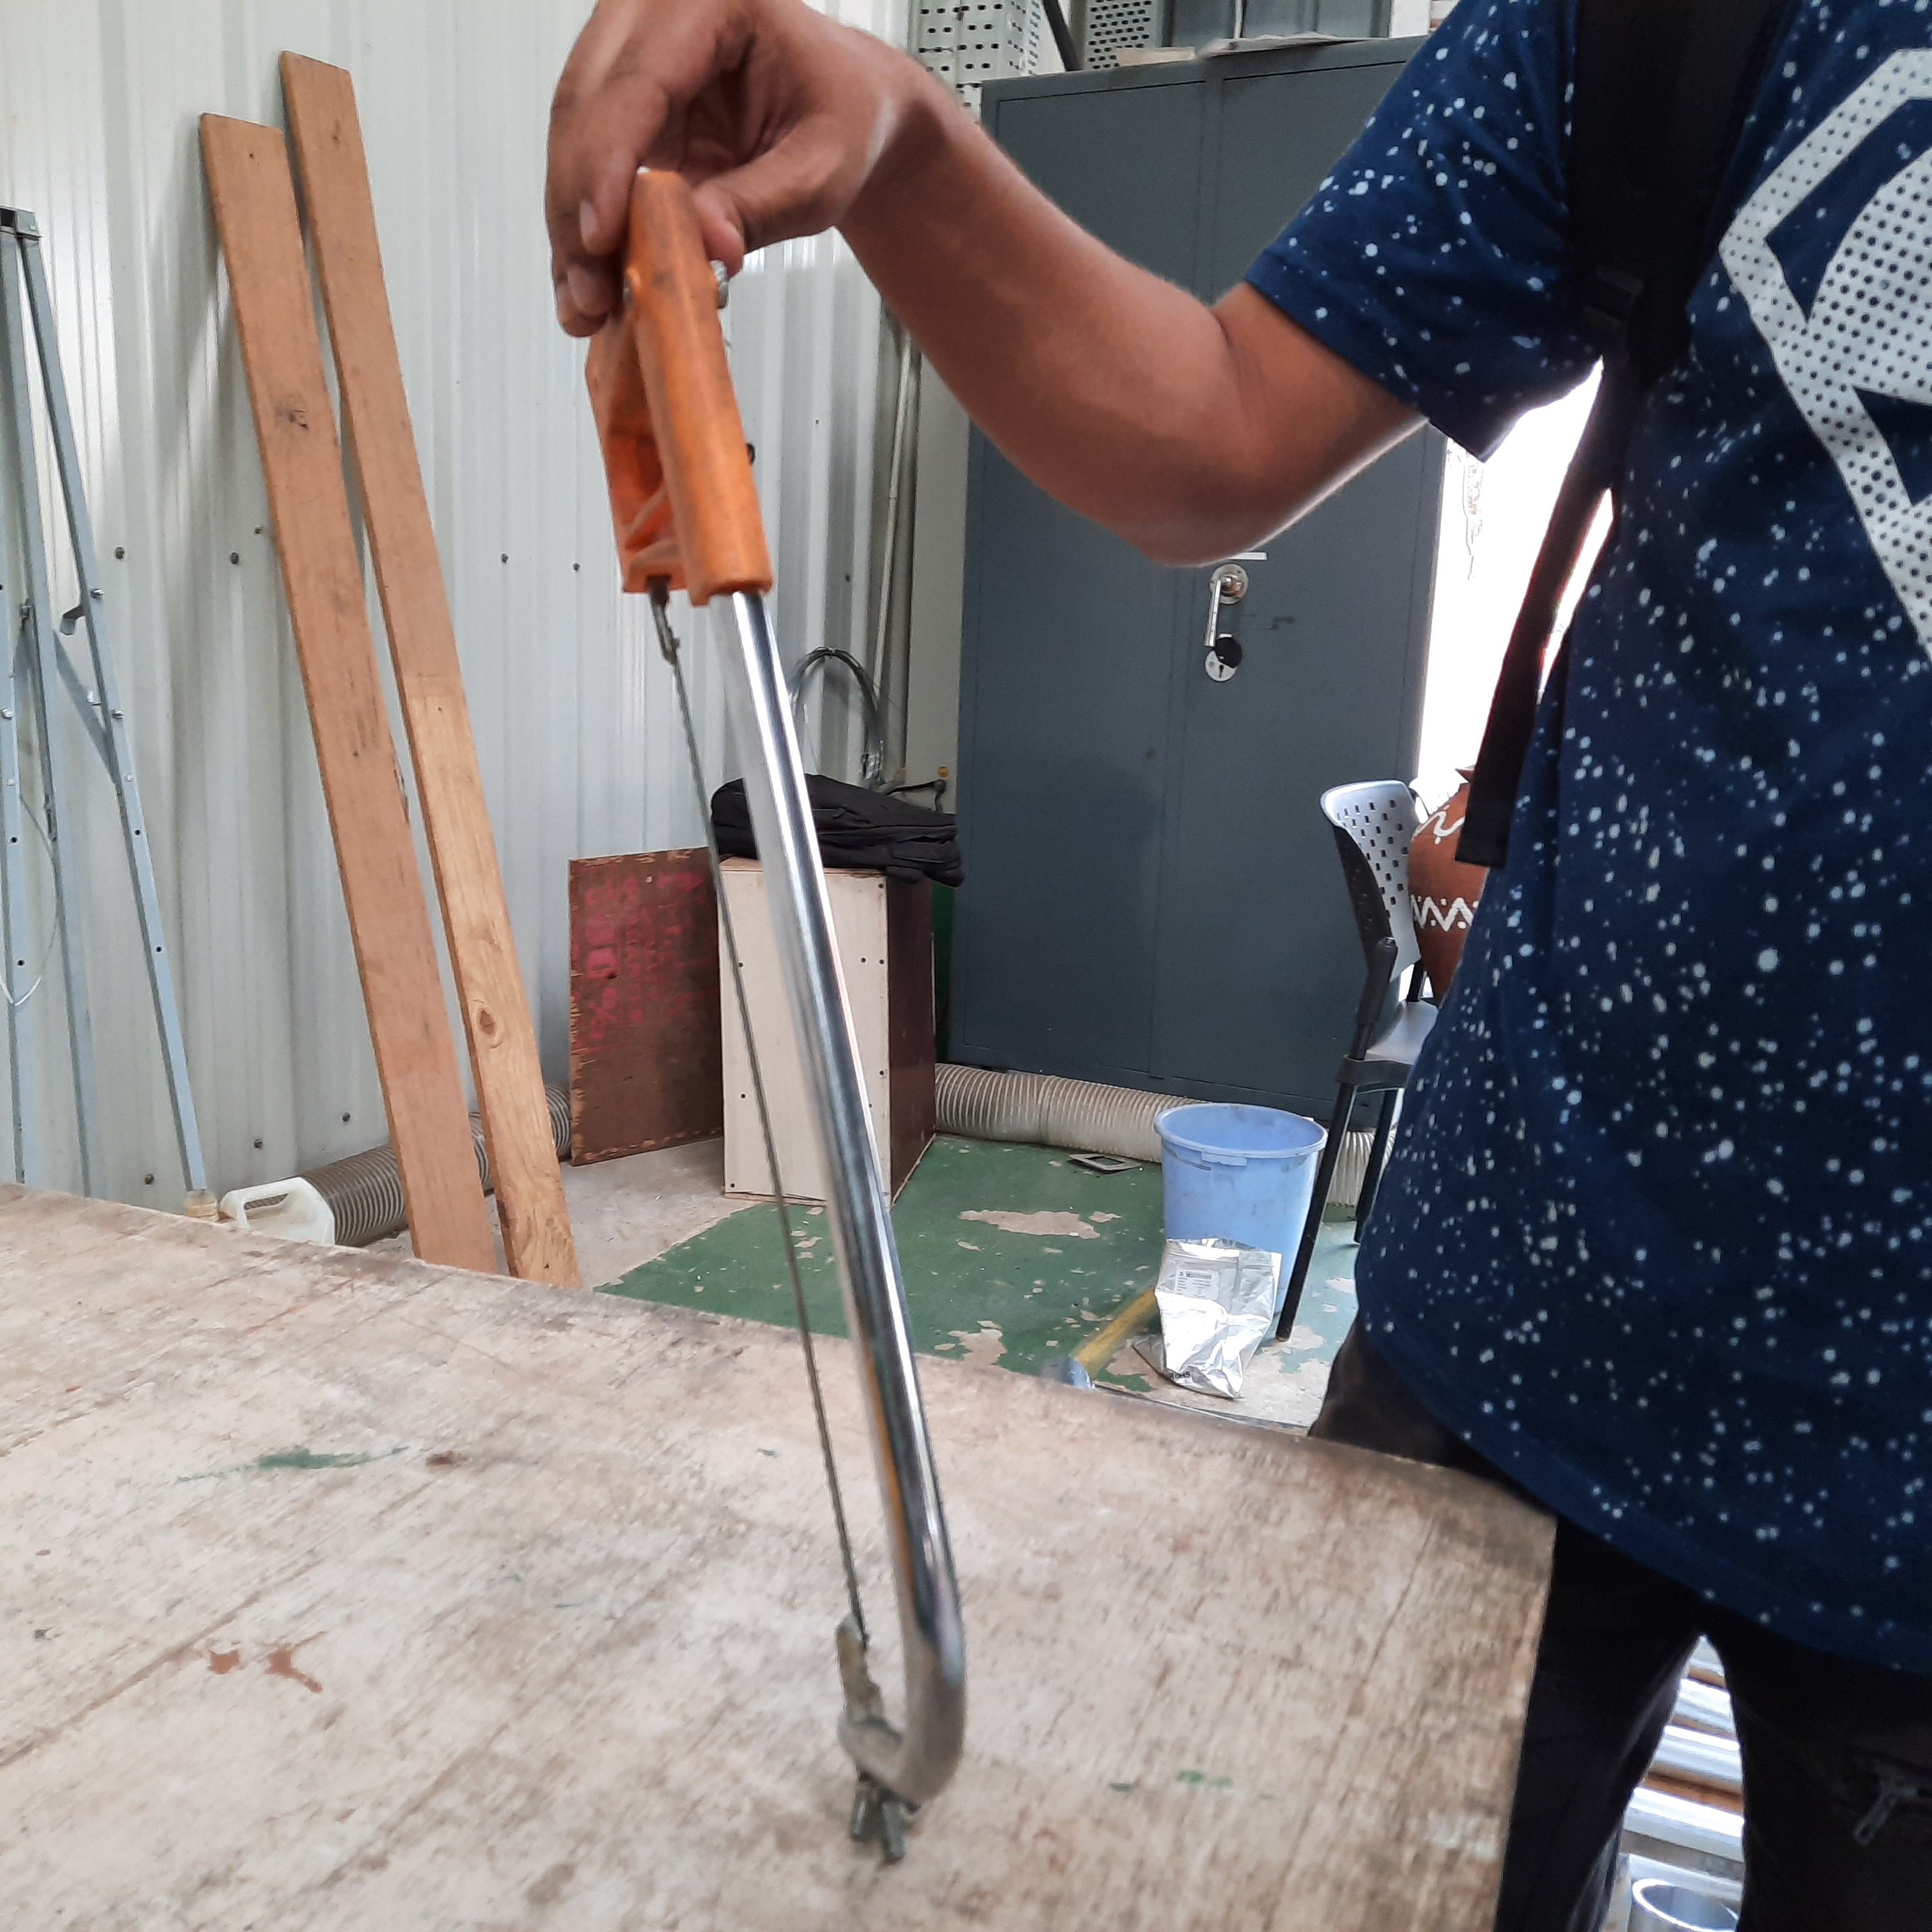Hexaframe: (504, 156, 1090, 1875)
